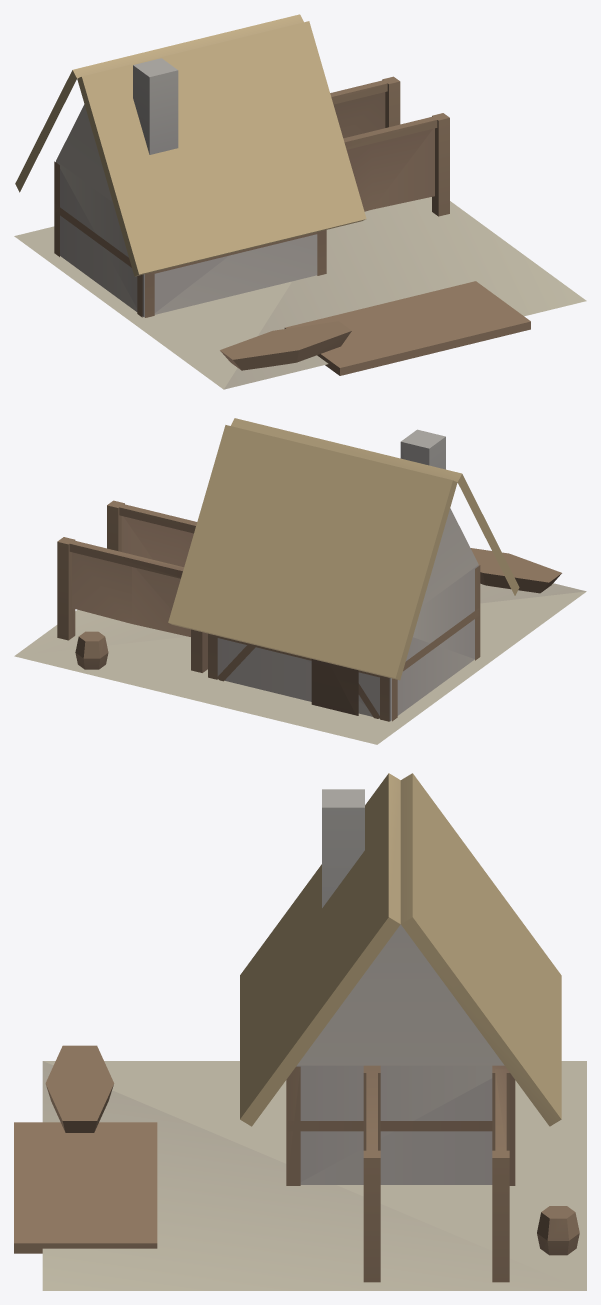
File: fisher.lite.glb
3 views of the same model, one above another, from view 1: azimuth 30°, elevation 25°; view 2: azimuth 150°, elevation 25°; view 3: azimuth 270°, elevation 25° (orthographic). The views are drawn at different scales.
Parts seen in each view (by area): view 1: fisher; view 2: fisher; view 3: fisher.
Boxes of the visible parts, bbox=[...] form: fisher: bbox=[14, 14, 586, 389]; fisher: bbox=[14, 418, 586, 744]; fisher: bbox=[14, 773, 586, 1290].
Size of the model in its own units: 1.94 by 1.15 by 2.
